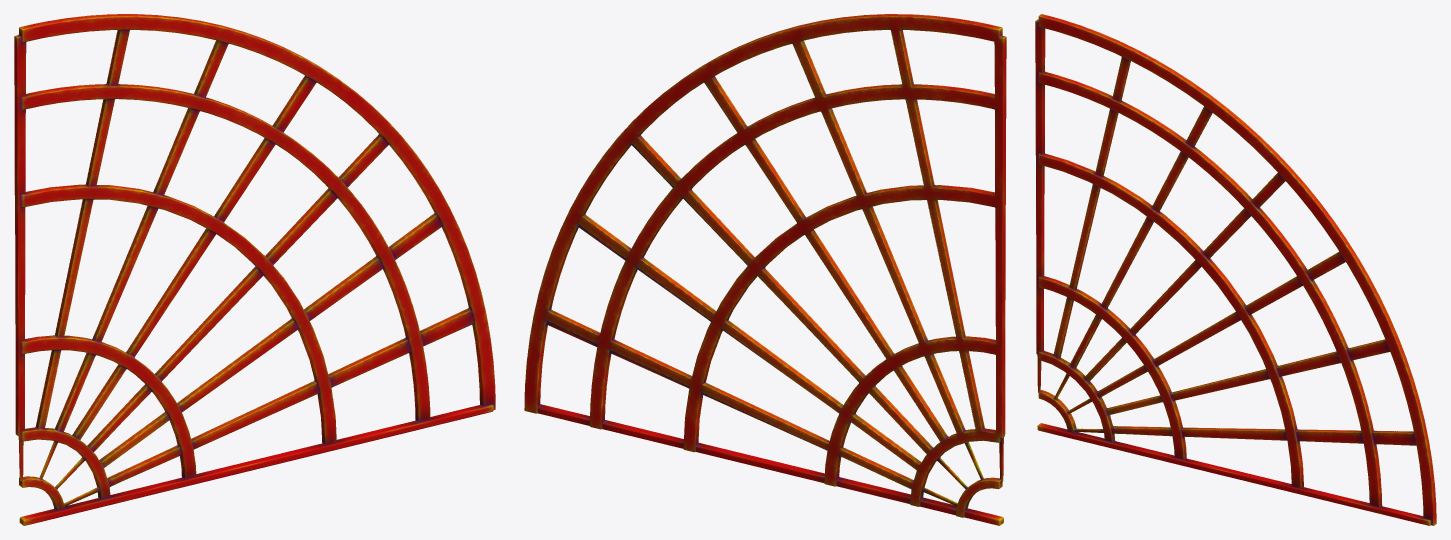
Rendered from RoofCurvedEnd.fbx.
3 renders of one model, left to right at view 1: azimuth 30°, elevation 25°; view 2: azimuth 150°, elevation 25°; view 3: azimuth 330°, elevation 25°, orthographic. The views are drawn at different scales.
Parts seen in each view (by area): view 1: transform1; view 2: transform1; view 3: transform1.
Part boxes in pixels (left/top/right/bottom): transform1: left=14, top=14, right=495, bottom=525; transform1: left=524, top=14, right=1006, bottom=525; transform1: left=1035, top=14, right=1436, bottom=525.
Bounding box in the file's own units: 1010 × 19.24 × 1001.
